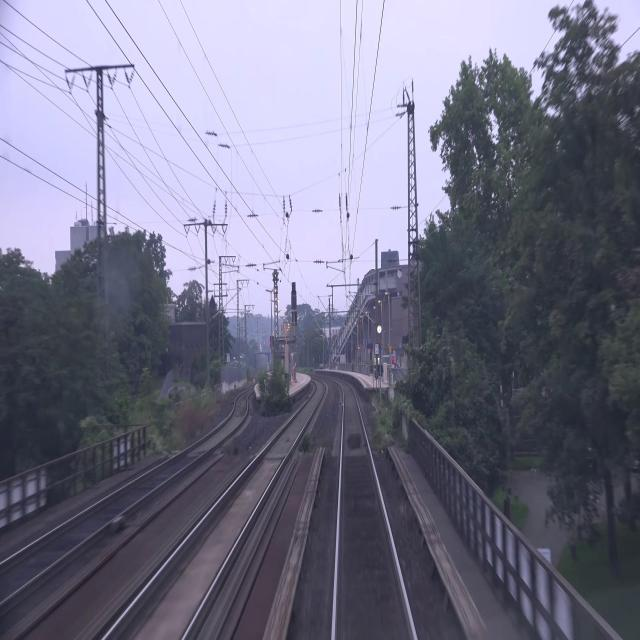rail-track: (109, 383, 322, 639), (0, 393, 246, 602), (337, 386, 414, 639)
